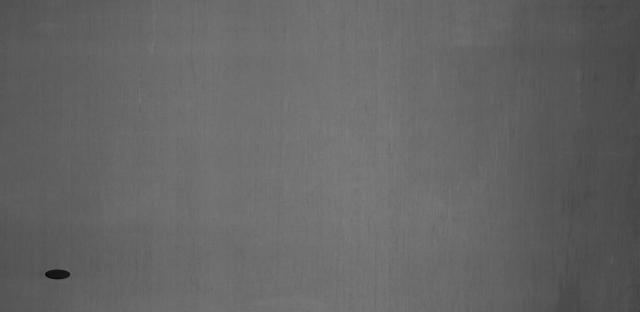punching_hole: (41, 265, 74, 283)
